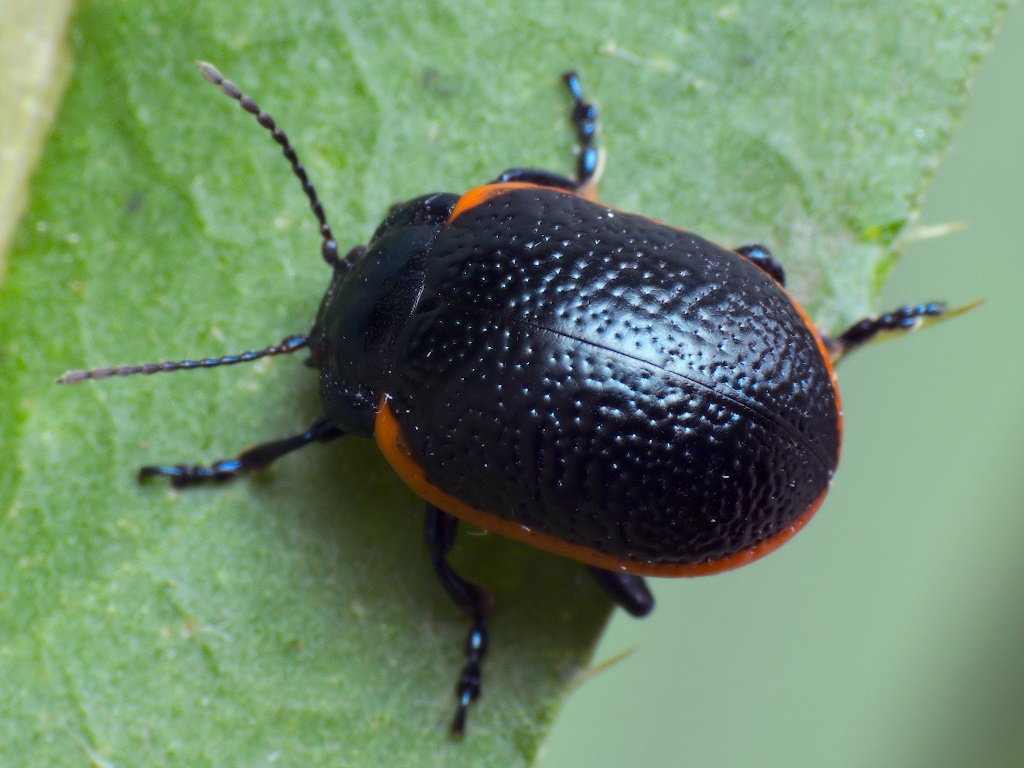Chrysolina_gypsophila: (42, 47, 952, 745)
